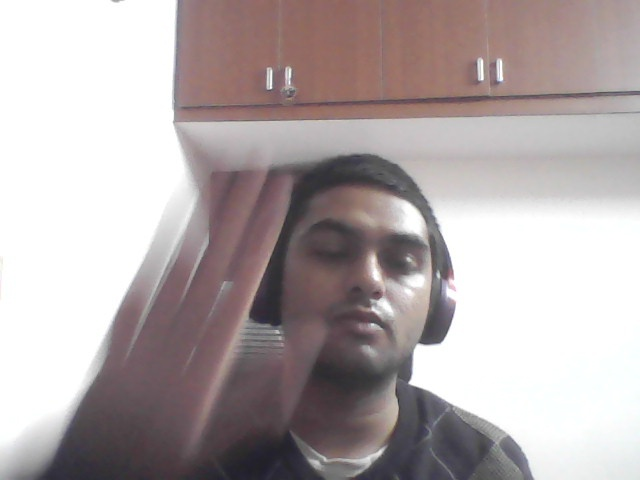Hello: (96, 137, 335, 462)
